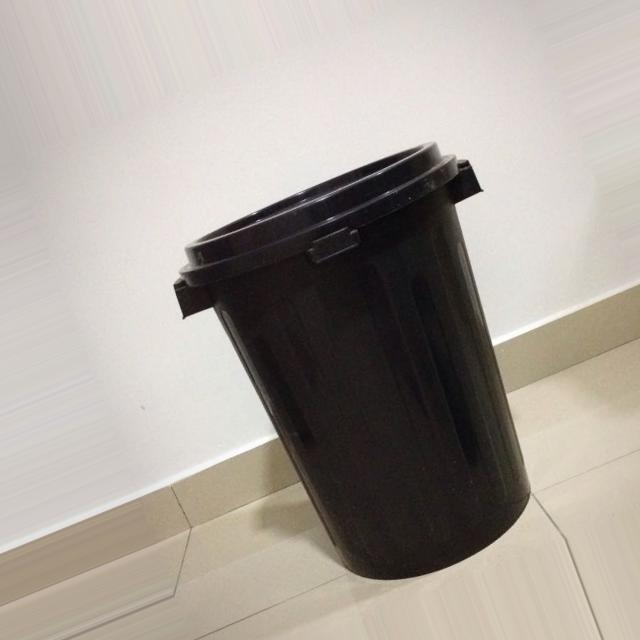Bote de Basura: (190, 155, 540, 570)
